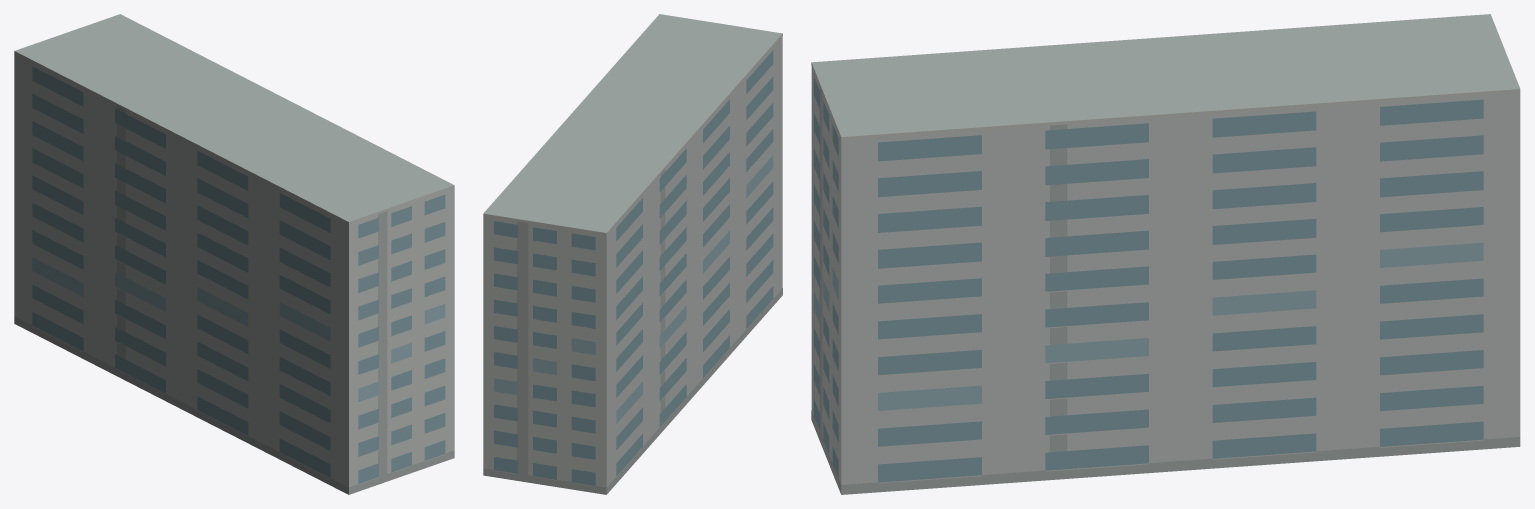
Rendered from residential-e2f508cd-1d33-4a82-87ab-2d4c9cc7dd44.glb.
3 views of the same model, side by side, from view 1: azimuth 30°, elevation 25°; view 2: azimuth 150°, elevation 25°; view 3: azimuth 270°, elevation 25° (orthographic). The views are drawn at different scales.
Visible parts, largest first — view 1: residential-e2f508cd-1d33-4a82-87ab-2d4c9cc7dd44.tmp; view 2: residential-e2f508cd-1d33-4a82-87ab-2d4c9cc7dd44.tmp; view 3: residential-e2f508cd-1d33-4a82-87ab-2d4c9cc7dd44.tmp.
Part boxes in pixels (x1,y1,x2,y2): residential-e2f508cd-1d33-4a82-87ab-2d4c9cc7dd44.tmp: (14,14,454,494); residential-e2f508cd-1d33-4a82-87ab-2d4c9cc7dd44.tmp: (483,14,782,494); residential-e2f508cd-1d33-4a82-87ab-2d4c9cc7dd44.tmp: (811,14,1520,494).
Bounding box in the file's own units: 19.95 × 27 × 48.5.
